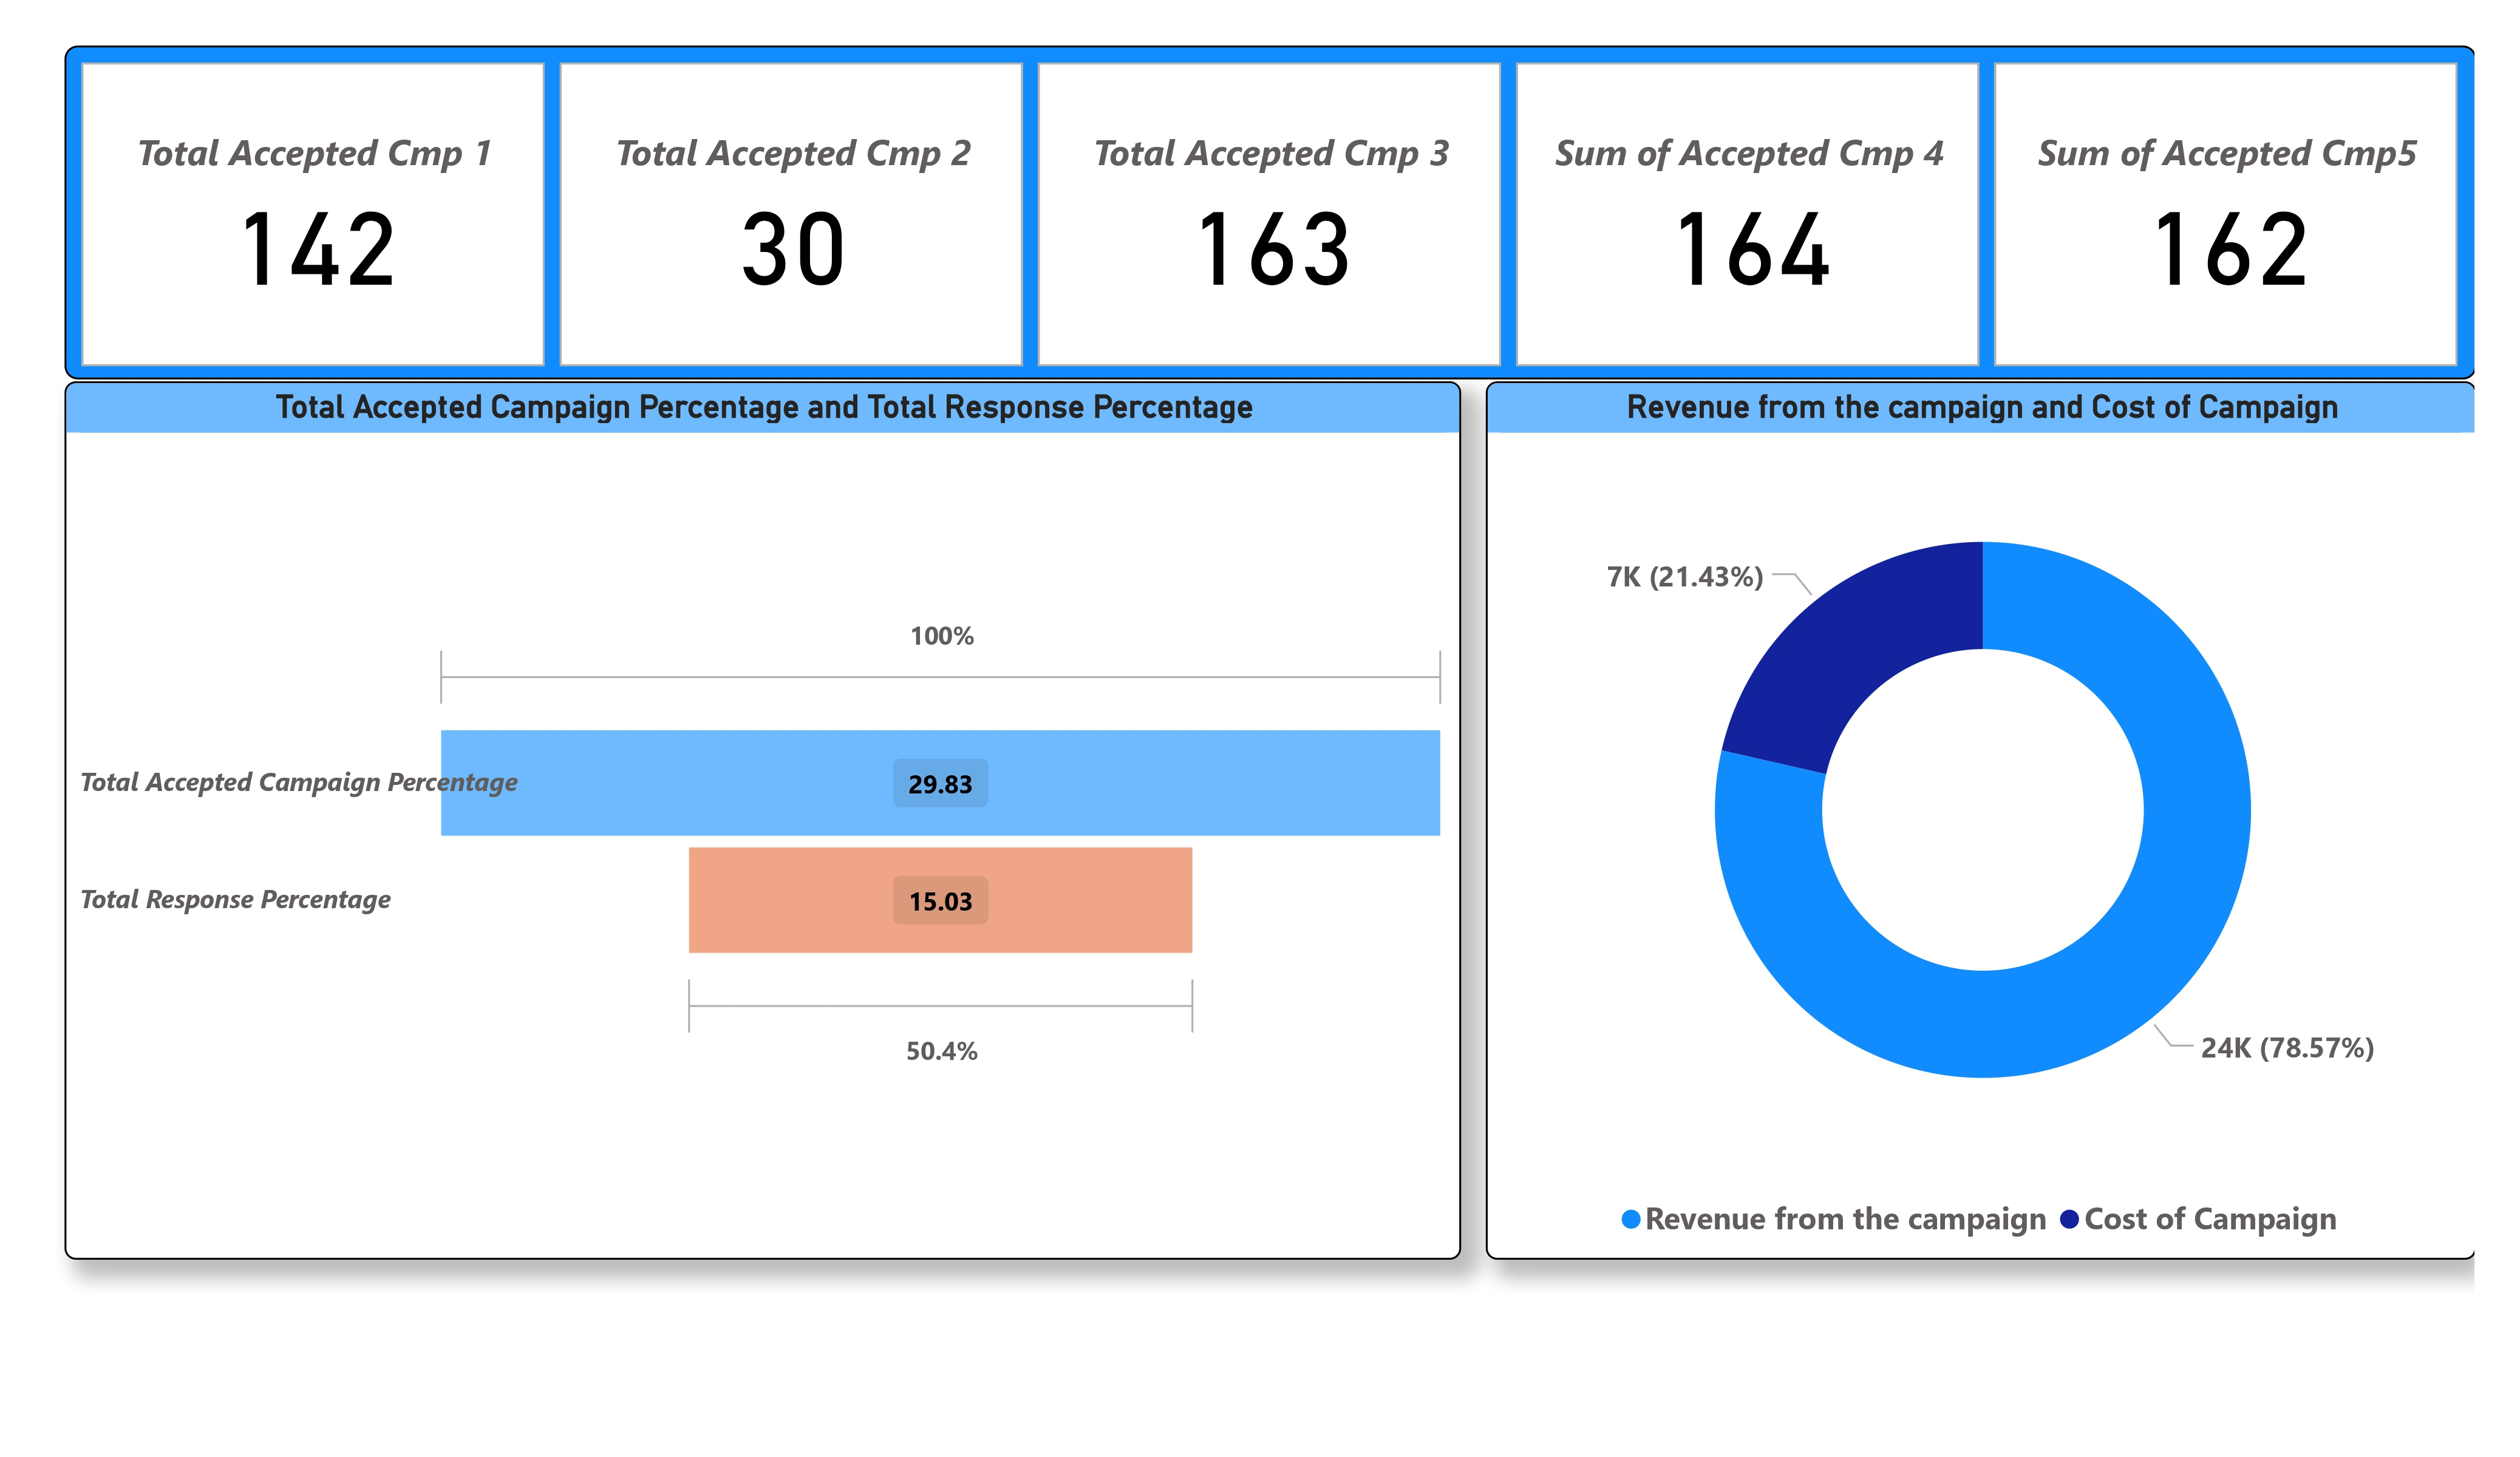

Layout of this report page (visuals, bound fields, positions):
{"tool":"powerbi","page":{"name":"Page 3","canvas":[1280,720],"ordinal":2},"visuals":[{"type":"cardVisual","title":"Total Accepted Cmp1","fields":{"Data":["Sum(marketing_campaign_cleaned.AcceptedCmp1)","Sum(marketing_campaign_cleaned.AcceptedCmp2)","Sum(marketing_campaign_cleaned.AcceptedCmp3)","Sum(marketing_campaign_cleaned.AcceptedCmp4)","Sum(marketing_campaign_cleaned.AcceptedCmp5)"]},"box":[10.2,0,1270.3,176.4],"z":0},{"type":"funnel","fields":{"Y":["marketing_campaign_cleaned.Total Accepted Percentage","marketing_campaign_cleaned.Total Response percentage"]},"box":[9.9,176.7,736.4,463.6],"z":1000},{"type":"donutChart","fields":{"Y":["Sum(marketing_campaign_cleaned.Z_Revenue)","Sum(marketing_campaign_cleaned.Z_CostContact)"]},"box":[759,176.7,521.6,463.6],"z":2000}]}

Visuals, with their boxes in screenshot pixels (x1, y1, x2, y2):
"Total Accepted Cmp1" cardVisual: [65,46,2474,380]
funnel - marketing_campaign_cleaned.Total Accepted Percentage x marketing_campaign_cleaned.Total Response percentage: [64,381,1462,1260]
donutChart - Sum(marketing_campaign_cleaned.Z_Revenue) x Sum(marketing_campaign_cleaned.Z_CostContact): [1486,381,2474,1260]
